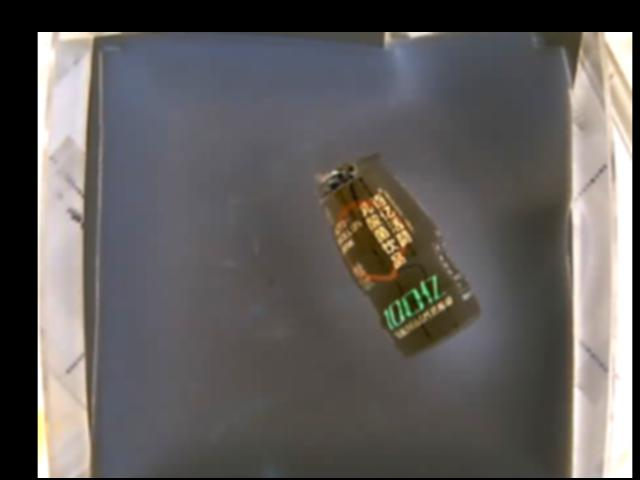Bottle: (312, 156, 482, 361)
